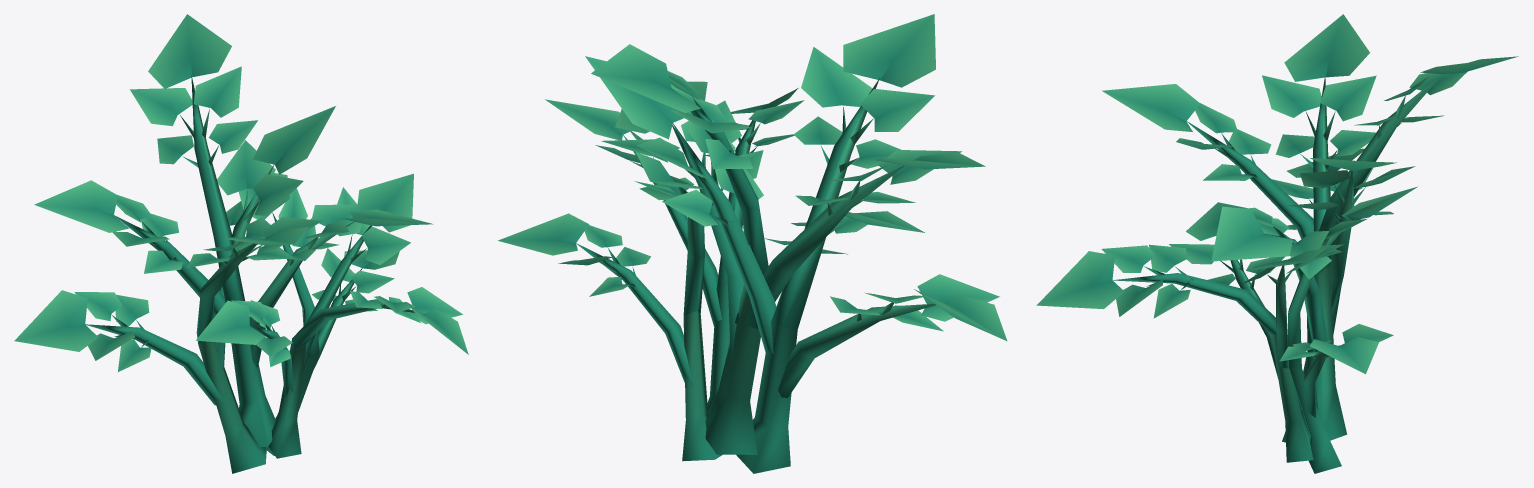
Rendered from PotatoSprout03.glb.
The picture shows the model from 3 angles, left to right: view 1: azimuth 30°, elevation 25°; view 2: azimuth 150°, elevation 25°; view 3: azimuth 270°, elevation 25°; orthographic projection. The views are drawn at different scales.
Parts seen in each view (by area): view 1: PotatoSprout03; view 2: PotatoSprout03; view 3: PotatoSprout03.
Part boxes in pixels (left/top/right/bottom): PotatoSprout03: left=14, top=14, right=468, bottom=473; PotatoSprout03: left=498, top=14, right=1007, bottom=473; PotatoSprout03: left=1036, top=14, right=1518, bottom=473.
Bounding box in the file's own units: 1.85 × 1.67 × 1.78.
Materials: 1 (1 with a texture image).
